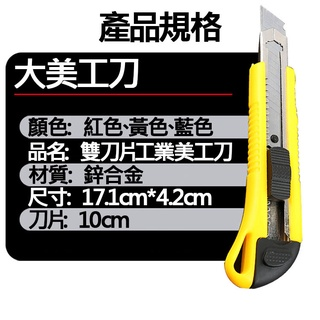cutter: (223, 3, 304, 289)
